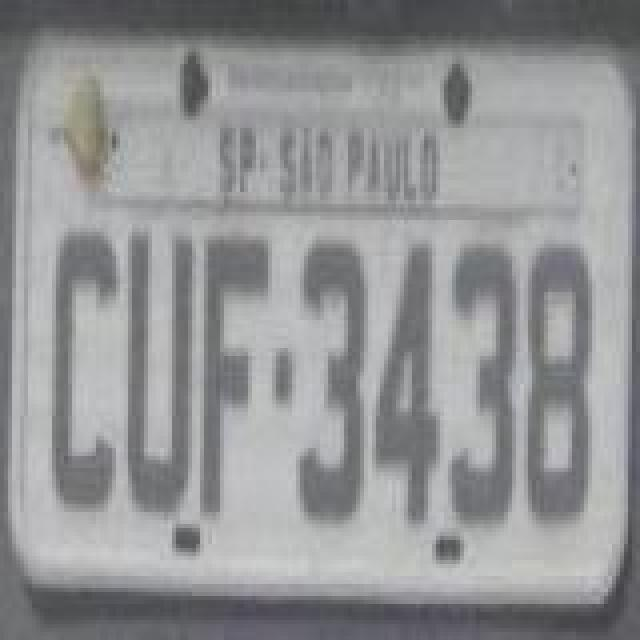3: (296, 232, 368, 528), (448, 238, 520, 530)
4: (376, 242, 440, 526)
8: (526, 240, 594, 528)
C: (50, 224, 118, 512)
F: (200, 234, 272, 518)
U: (126, 232, 194, 520)
